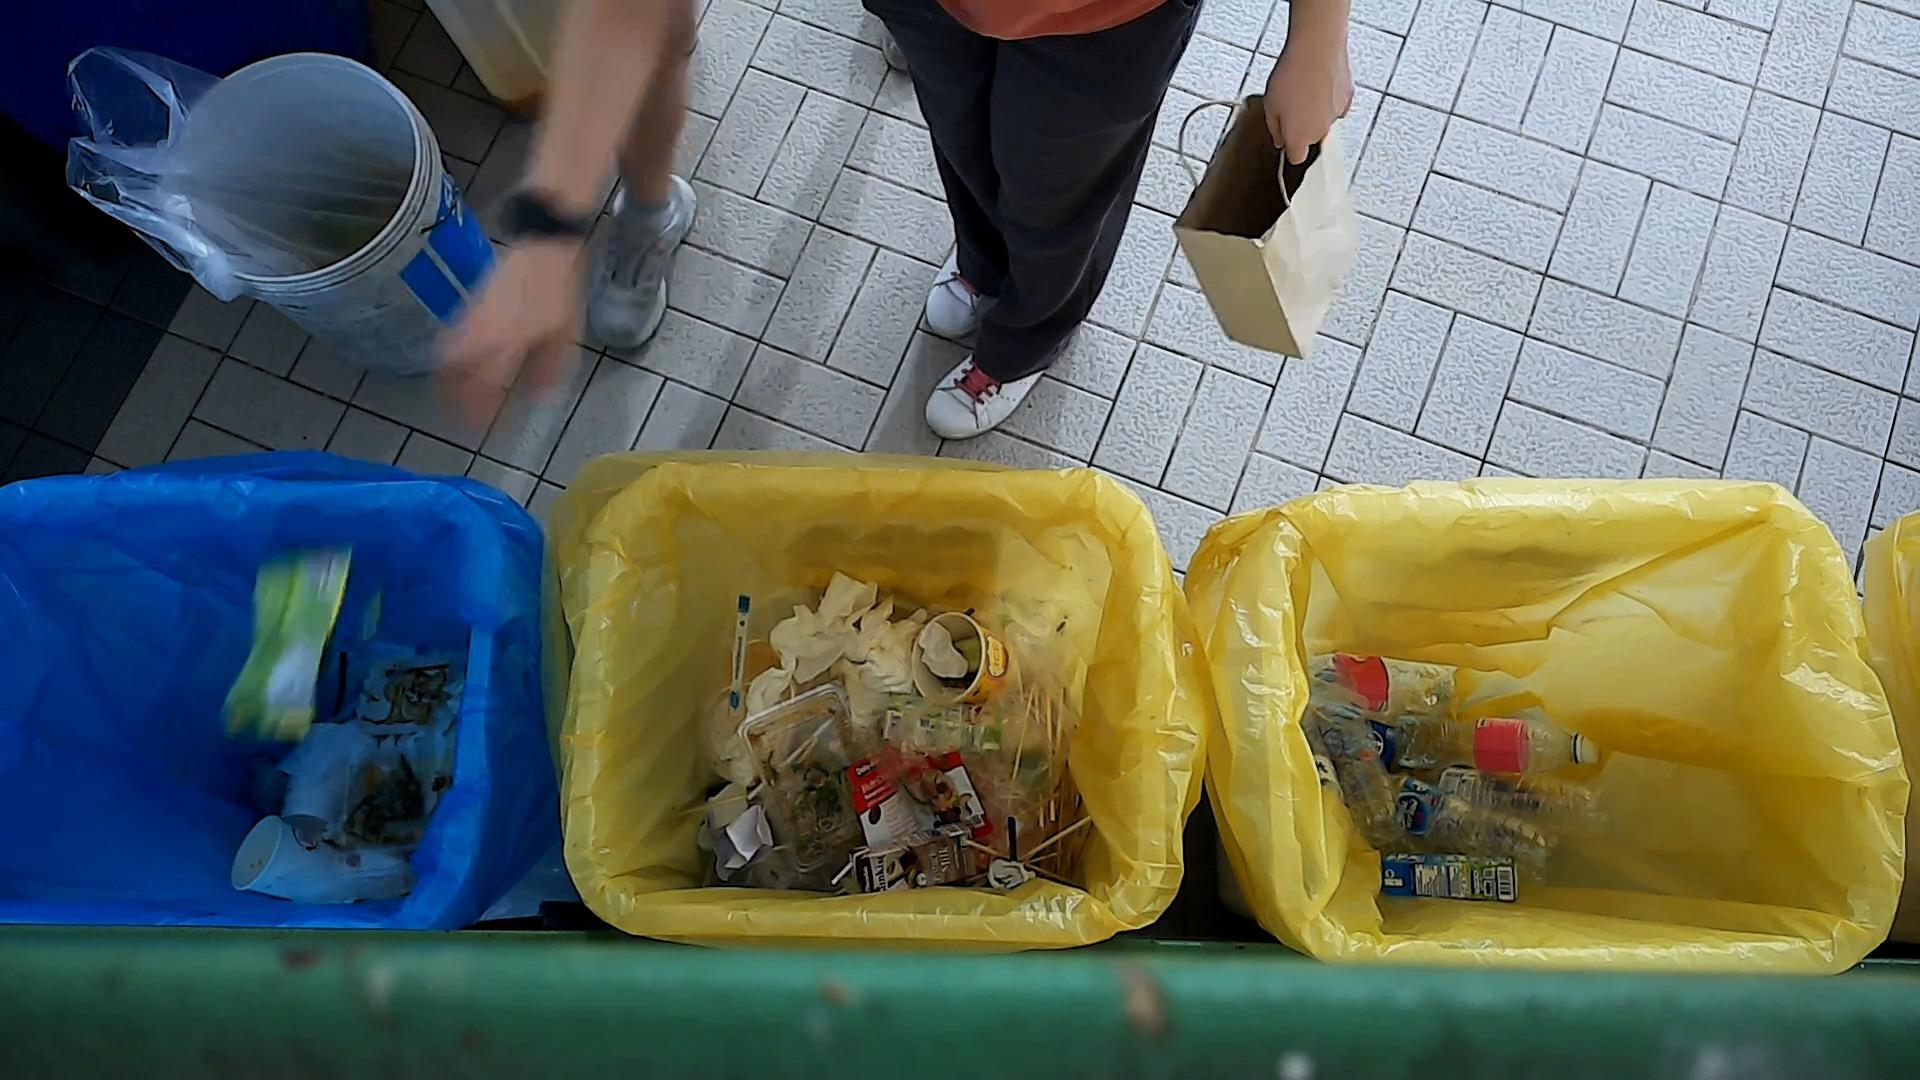dirty food container: (735, 678, 877, 878), (324, 731, 476, 862), (905, 608, 1015, 713), (353, 651, 464, 735)
filled plastic bag: (951, 516, 1116, 858)
milk carton: (827, 815, 982, 897), (873, 683, 1009, 765), (1375, 848, 1523, 907)
paper bag: (1168, 80, 1387, 359)
plastic bottle: (1382, 766, 1569, 880), (1307, 665, 1408, 848), (1435, 765, 1615, 849), (1387, 712, 1604, 778)
snack packaging: (212, 539, 363, 745), (847, 742, 996, 845)
sticks: (1018, 814, 1095, 861)
straw: (324, 649, 351, 723)
tissue paper: (823, 592, 934, 733), (761, 570, 882, 679), (716, 659, 791, 790), (711, 802, 778, 885), (694, 781, 753, 856), (980, 853, 1031, 891), (440, 673, 467, 717)
zero waste cup: (229, 811, 377, 907), (276, 720, 375, 841)
